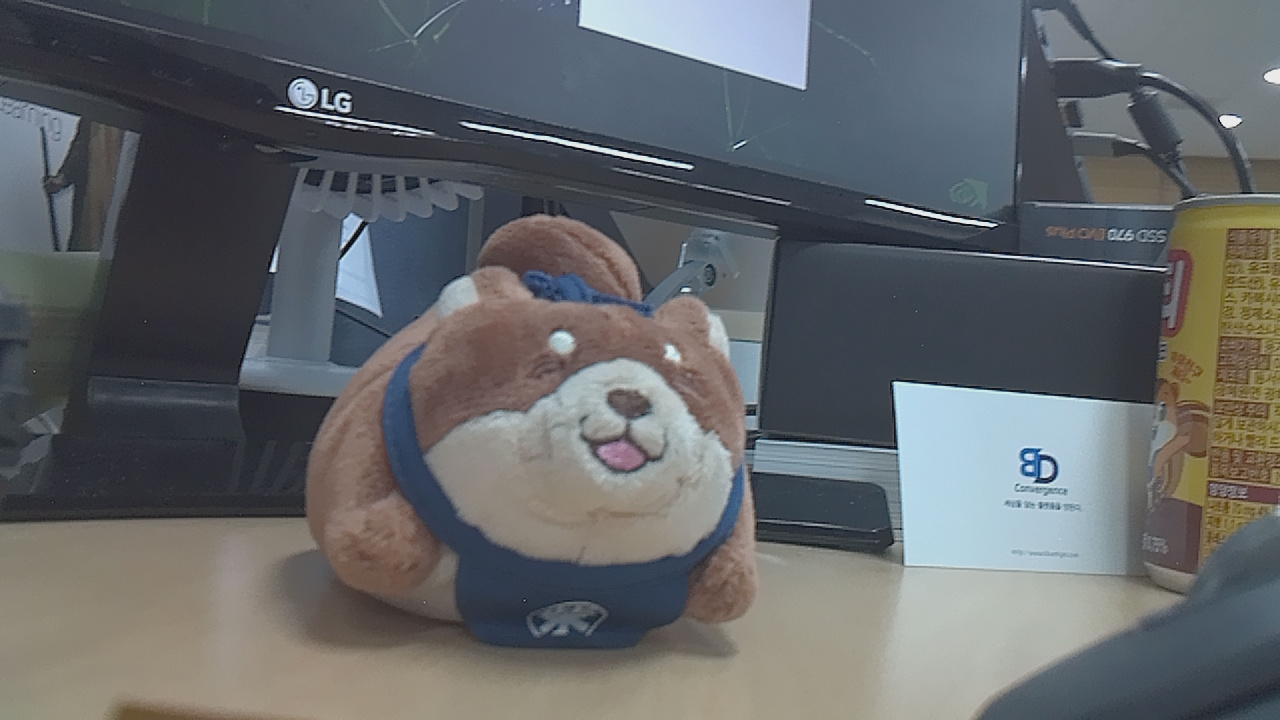cuteDog: (301, 186, 812, 624)
